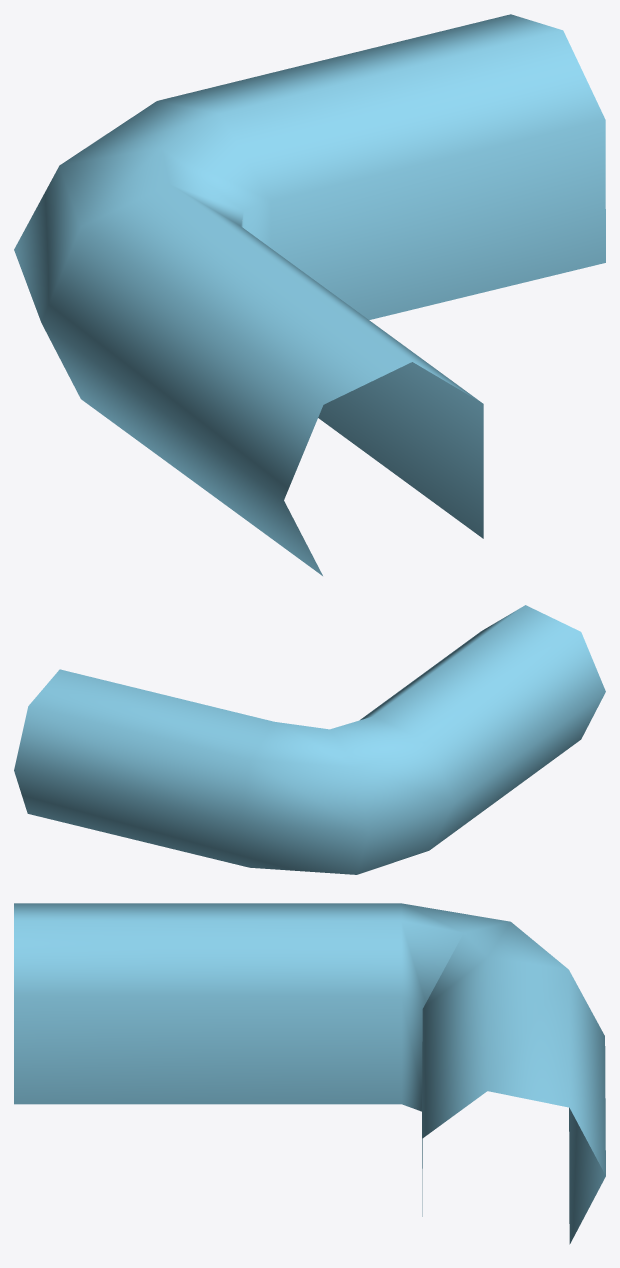
The model's file is Norris_Maze_Blue_Wire_LR.fbx.
3 views of the same model, one above another, from view 1: azimuth 30°, elevation 25°; view 2: azimuth 150°, elevation 25°; view 3: azimuth 270°, elevation 25° (orthographic). The views are drawn at different scales.
Parts seen in each view (by area): view 1: WireRight3; view 2: WireRight3; view 3: WireRight3.
Part boxes in pixels (<box>): WireRight3: <box>14,14,605,575</box>; WireRight3: <box>14,605,605,874</box>; WireRight3: <box>14,903,605,1244</box>.
Size of the model in its own units: 2.97 by 0.9959 by 3.3.
